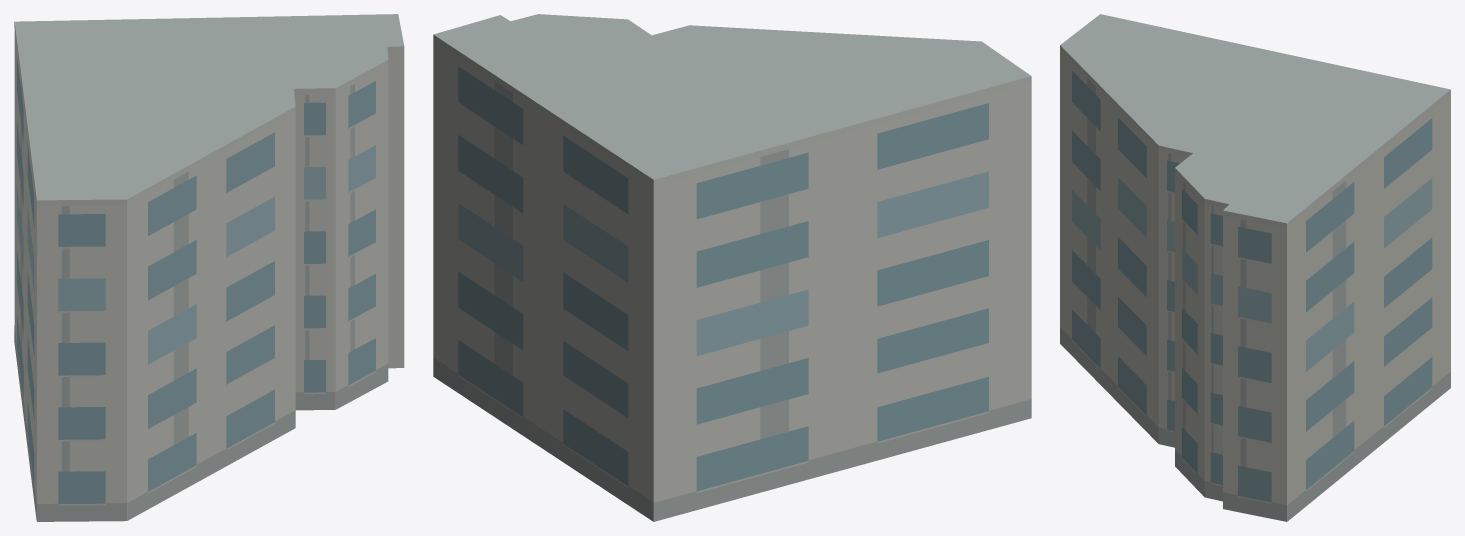
Rendered from survey-upis-32480465.glb.
3 renders of one model, left to right at view 1: azimuth 30°, elevation 25°; view 2: azimuth 150°, elevation 25°; view 3: azimuth 270°, elevation 25°, orthographic. The views are drawn at different scales.
Visible parts, largest first — view 1: survey-upis-32480465.tmp; view 2: survey-upis-32480465.tmp; view 3: survey-upis-32480465.tmp.
Part boxes in pixels (<box>): survey-upis-32480465.tmp: <box>14,14,404,521</box>; survey-upis-32480465.tmp: <box>433,14,1031,521</box>; survey-upis-32480465.tmp: <box>1060,14,1450,521</box>.
Size of the model in its own units: 19.93 by 13.25 by 15.73.
